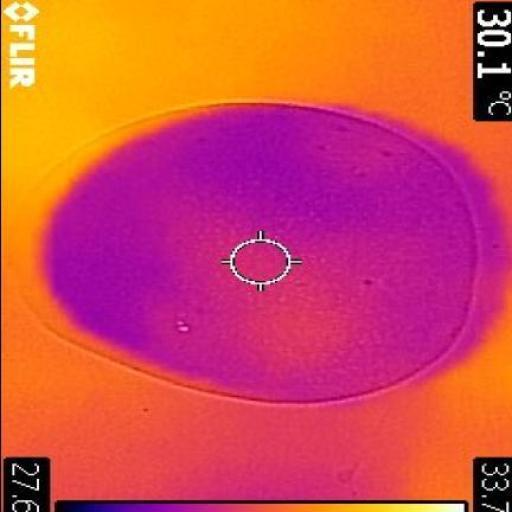alphanso: (12, 104, 484, 407)
